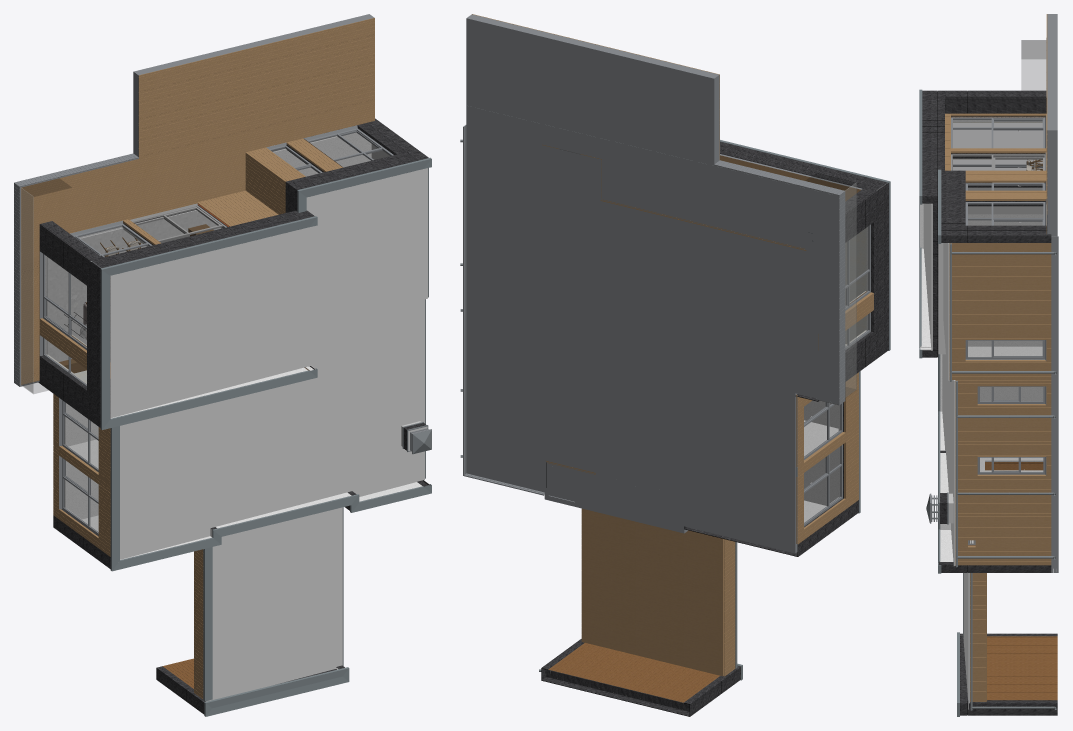
The model's file is PRO DSK AR INTERIOR-compressed.glb.
3 renders of one model, left to right at view 1: azimuth 30°, elevation 25°; view 2: azimuth 150°, elevation 25°; view 3: azimuth 270°, elevation 25°, orthographic. The views are drawn at different scales.
Visible parts, largest first — view 1: New480481, _3DGeom266258405841, New57485749, _3DGeom81313391340, _3DGeom195741804181, New48544855, _3DGeom201043084309, _3DGeom200943064307, _3DGeom274760226023, _3DGeom217246854686, _3DGeom301109110, _3DGeom207044494450 (+22 smaller); view 2: _3DGeom222648114812, _3DGeom207044494450, _3DGeom235051175118, _3DGeom121023372338, _3DGeom274760226023, _3DGeom666977978, _3DGeom244853555356, _3DGeom256856245625, _3DGeom224148494850, _3DGeom389324325, _3DGeom272859815982, New58035804 (+3 smaller); view 3: _3DGeom288163576358, _3DGeom324272477248, _3DGeom207044494450, _3DGeom325572807281, New480481, _3DGeom274760226023, New47604761, _3DGeom91215891590, New47564757, _3DGeom109020332034, _3DGeom197542264227, _3DGeom158632743275 (+64 smaller).
Boxes of the visible parts, x1,y1,x2,y2 form: New480481: (120, 299, 424, 559); _3DGeom266258405841: (110, 226, 312, 418); New57485749: (209, 507, 342, 700); _3DGeom81313391340: (138, 18, 374, 158); _3DGeom195741804181: (21, 101, 374, 384); New48544855: (306, 168, 427, 328); _3DGeom201043084309: (47, 210, 220, 361); _3DGeom200943064307: (46, 132, 371, 519); _3DGeom274760226023: (21, 188, 33, 393); _3DGeom217246854686: (101, 216, 317, 275); _3DGeom301109110: (102, 370, 316, 429); _3DGeom207044494450: (133, 14, 374, 156); _3DGeom222648114812: (466, 105, 837, 553); _3DGeom207044494450: (466, 14, 719, 165); _3DGeom235051175118: (582, 508, 723, 676); _3DGeom121023372338: (544, 464, 687, 533); _3DGeom274760226023: (845, 182, 856, 396); _3DGeom666977978: (796, 433, 858, 544); _3DGeom244853555356: (804, 400, 838, 505); _3DGeom256856245625: (724, 539, 735, 676); _3DGeom224148494850: (845, 229, 865, 343); _3DGeom389324325: (796, 372, 858, 467); _3DGeom272859815982: (720, 155, 861, 201); New58035804: (804, 477, 827, 522); _3DGeom288163576358: (955, 380, 1051, 565); _3DGeom324272477248: (949, 243, 1051, 379); _3DGeom207044494450: (1047, 14, 1057, 214); _3DGeom325572807281: (970, 573, 986, 701); New480481: (942, 354, 954, 565); _3DGeom274760226023: (1021, 40, 1045, 90); New47604761: (994, 123, 1042, 164); _3DGeom91215891590: (965, 170, 1046, 182); New47564757: (953, 123, 990, 164); _3DGeom109020332034: (1056, 236, 1058, 571); _3DGeom197542264227: (1054, 236, 1056, 571); _3DGeom158632743275: (1051, 236, 1053, 571).
Size of what is drawn, in the model's own units: 1690 by 2735 by 557.
54 materials, 32 textured.
